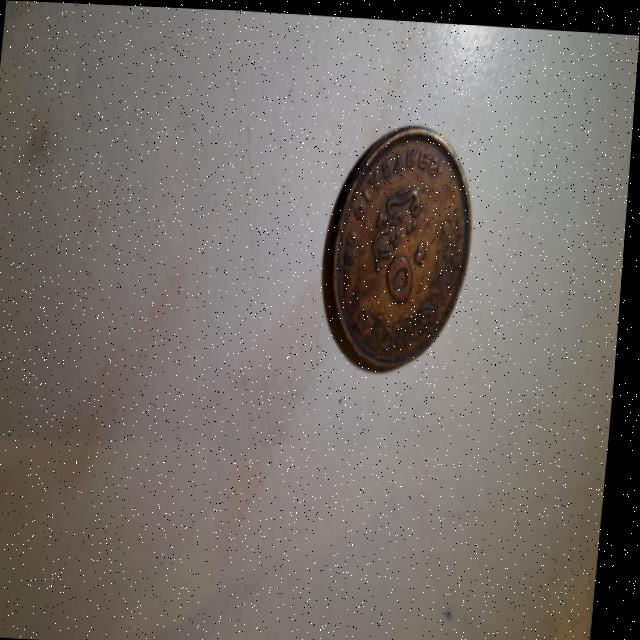Half Pound: (316, 105, 507, 392)
